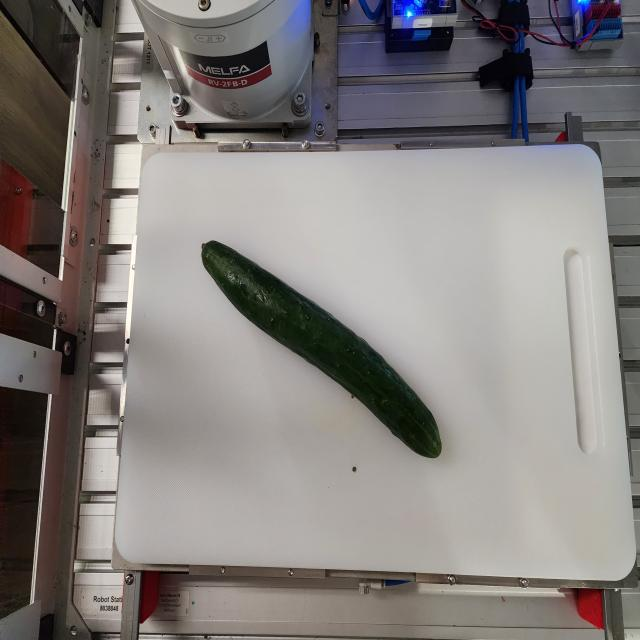cucumber: (200, 238, 442, 460)
